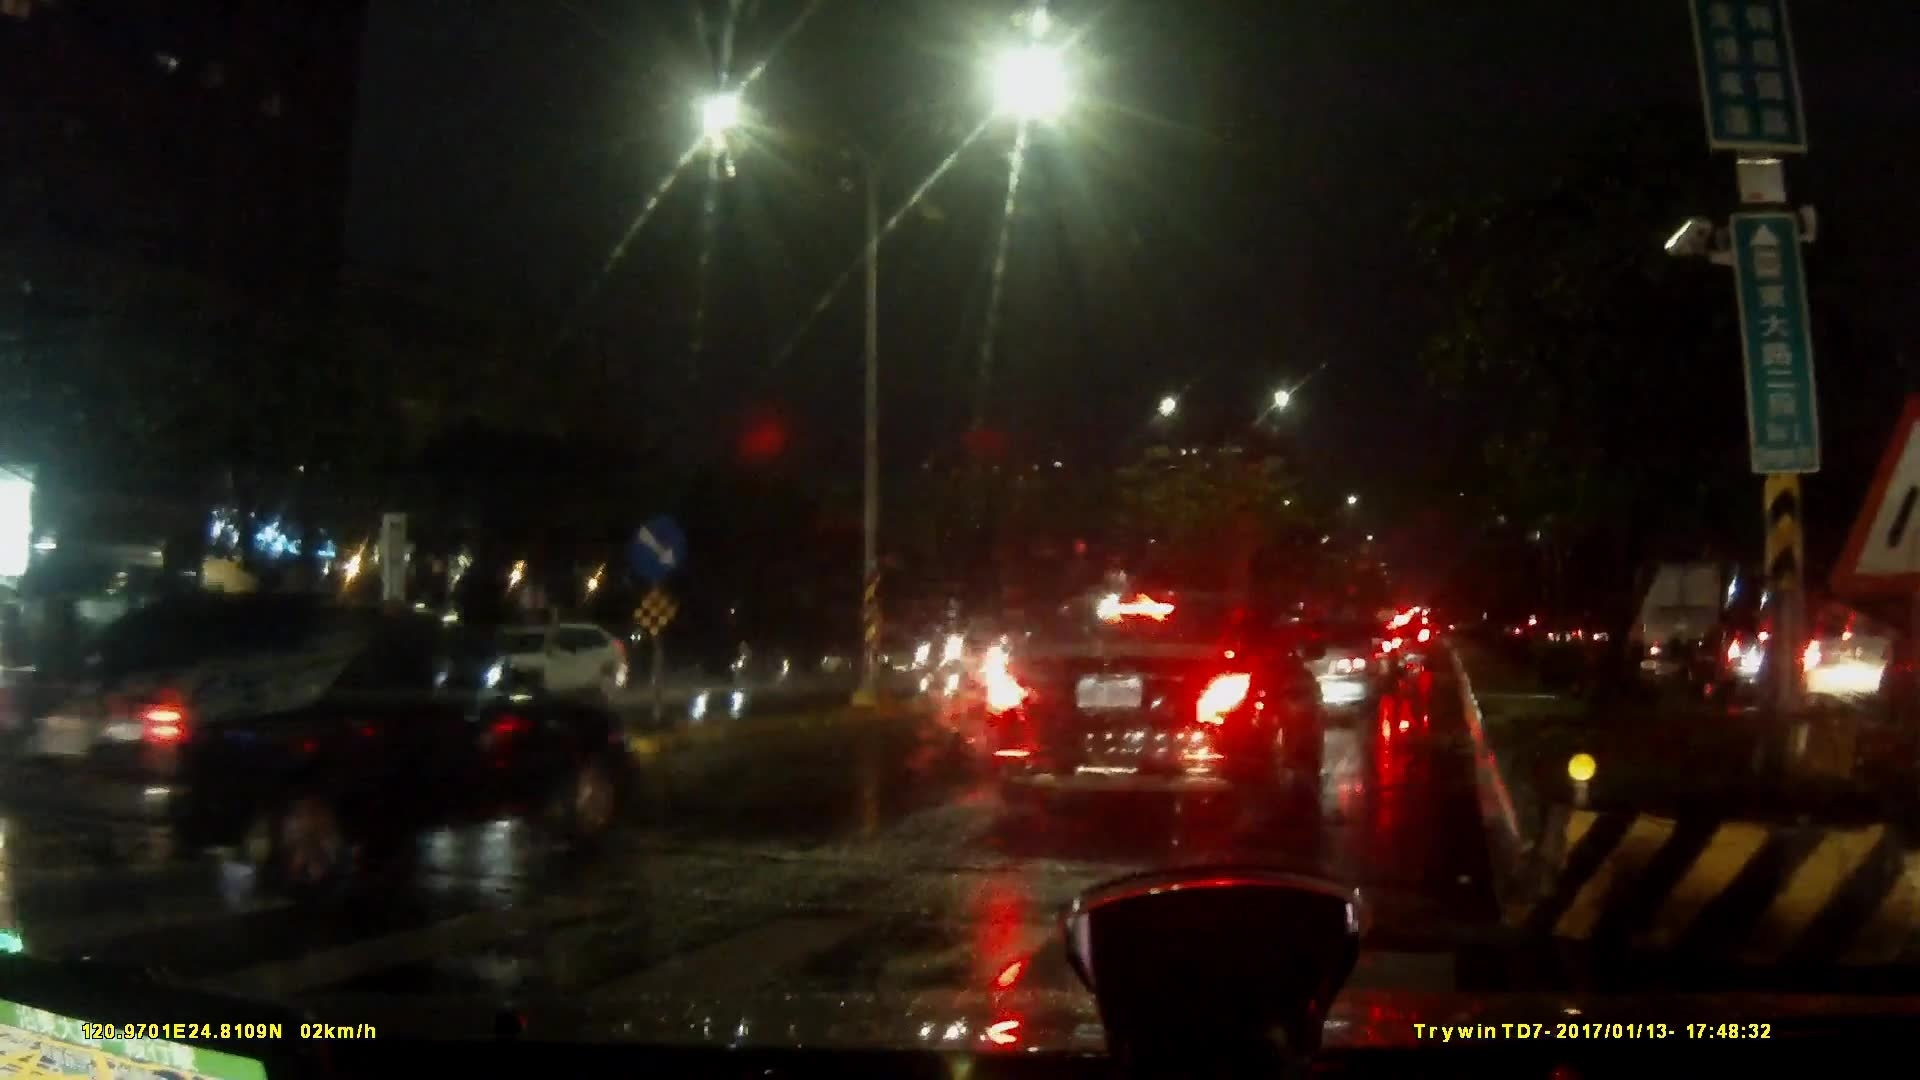vehicle: (1425, 603, 1596, 715), (1225, 612, 1385, 721), (1663, 611, 1808, 692), (1859, 597, 1920, 728)
